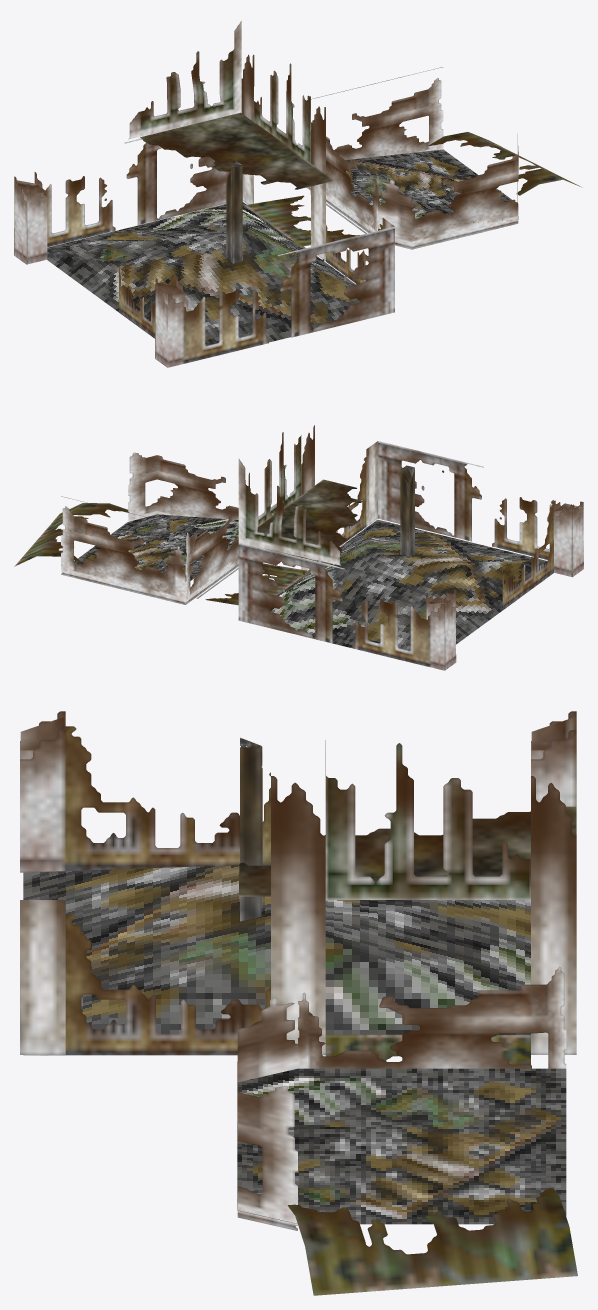
The model's file is l_gatecontrol_dam.glb.
3 renders of one model, top to bottom at view 1: azimuth 30°, elevation 25°; view 2: azimuth 150°, elevation 25°; view 3: azimuth 270°, elevation 25°, orthographic. The views are drawn at different scales.
Parts seen in each view (by area): view 1: L_GateControlDam; view 2: L_GateControlDam; view 3: L_GateControlDam.
Part boxes in pixels (x1=…): L_GateControlDam: x1=14, y1=21, x2=581, y2=367; L_GateControlDam: x1=14, y1=425, x2=583, y2=670; L_GateControlDam: x1=20, y1=711, x2=577, y2=1295.
Bounding box in the file's own units: 24.3 × 8.72 × 13.03.
2 materials, 2 textured.
